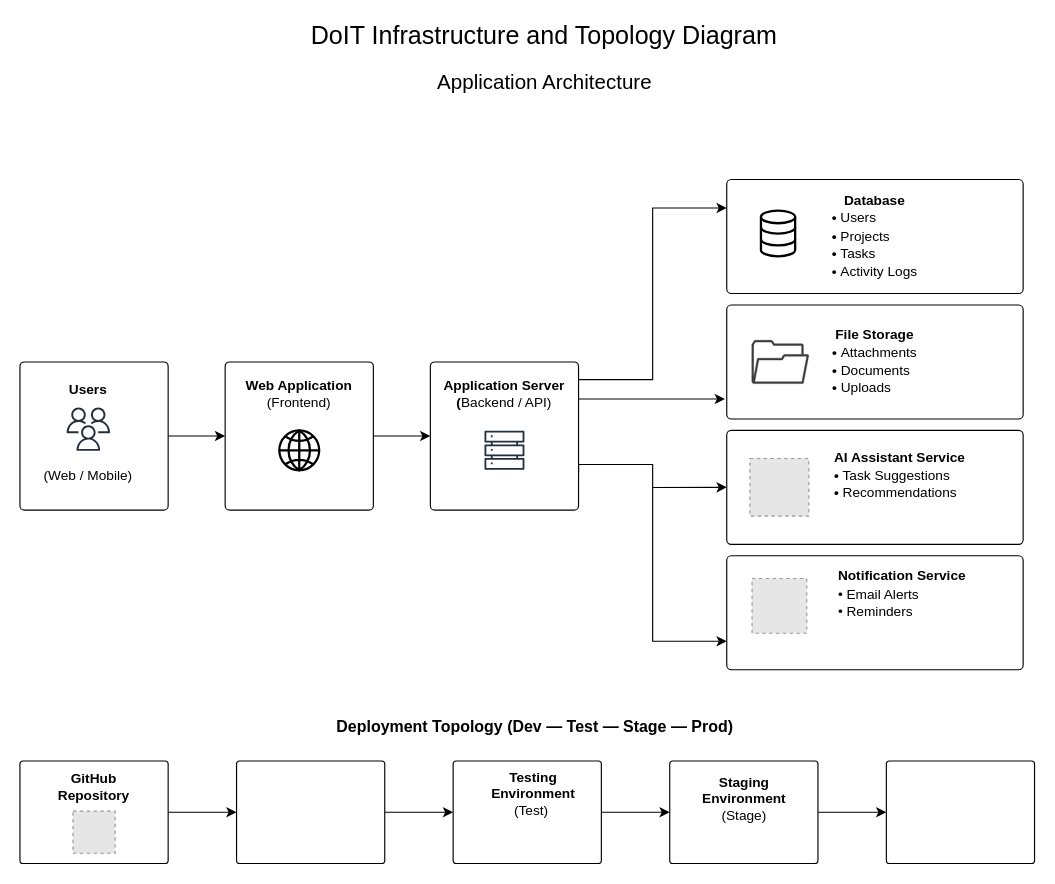
Some shapes in this 1055 by 884 pixel diagram are drawn without their labels. Grey dashed boxes stand in for pictures. Each missing label, with the centre of its shape:
"Development Environment (Dev)" belongs at pixel 310 812.
"Production Environment (Prod)" belongs at pixel 960 812.
